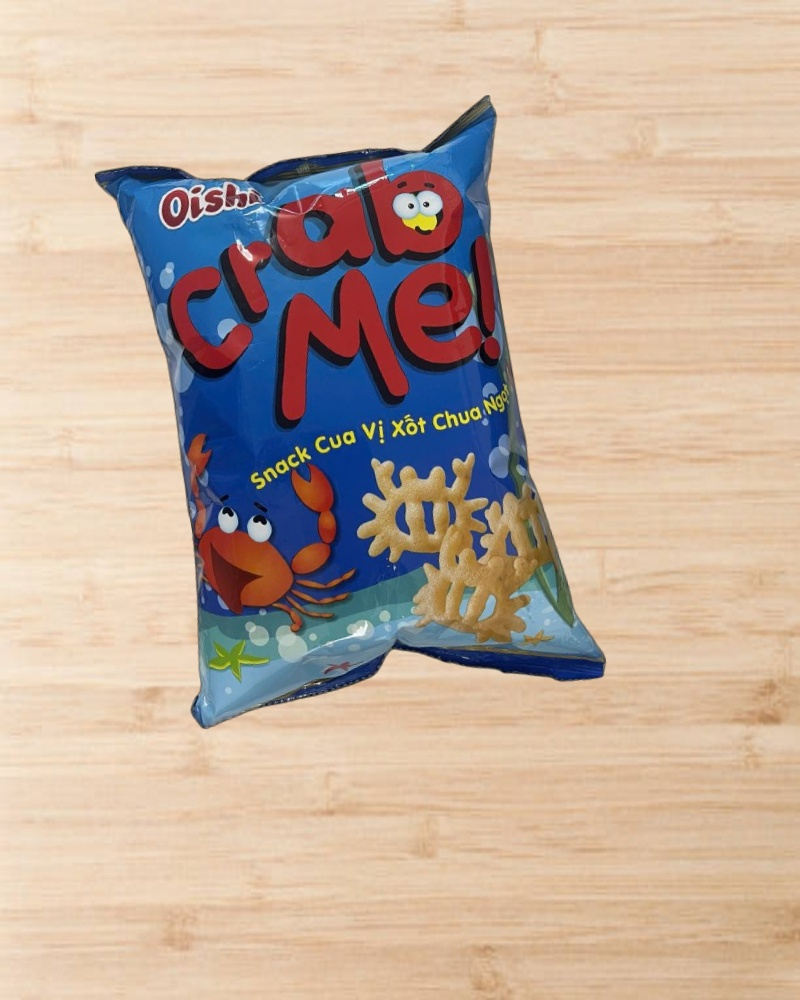Snack cua: (94, 93, 608, 743)
